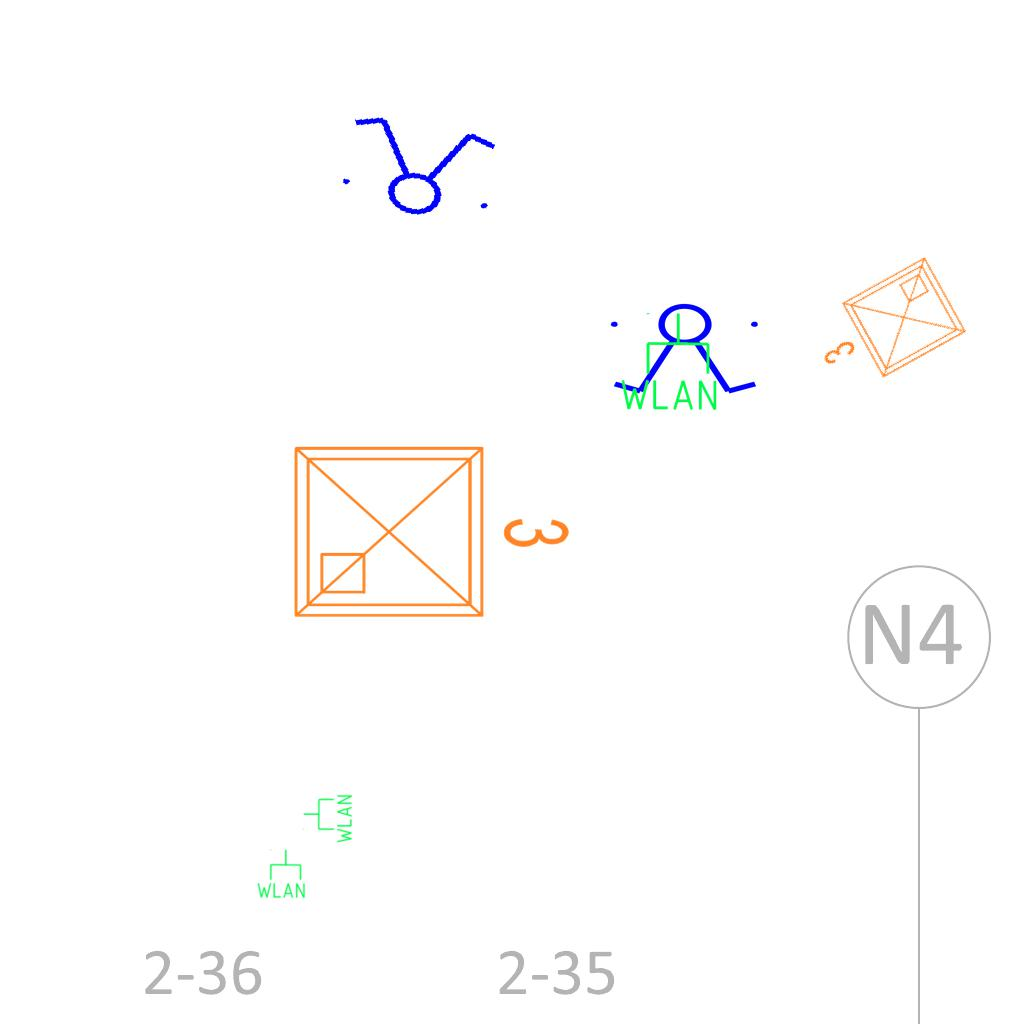Einbaudownlights_LED_Konferenzraeume: (280, 424, 580, 632), (796, 247, 978, 411)
Serienschalter: (326, 106, 510, 230), (602, 302, 770, 398)
WLAN: (616, 310, 721, 414), (302, 793, 354, 845), (255, 848, 307, 900)
